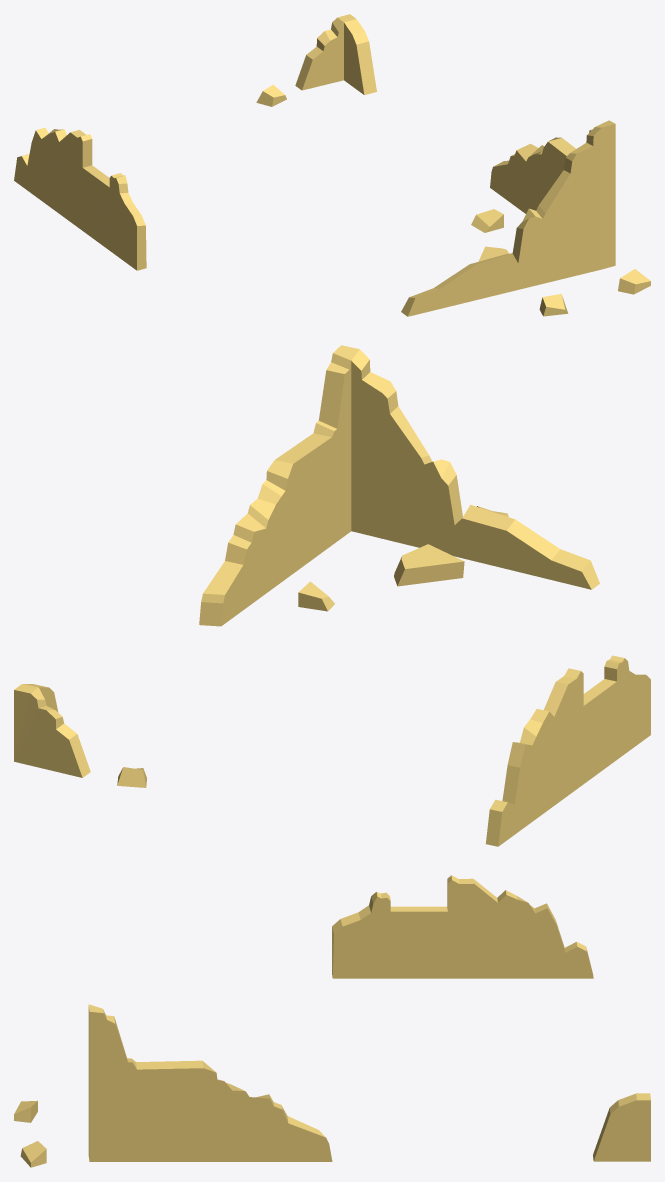
Rendered from Ruinas.obj.
3 views of the same model, one above another, from view 1: azimuth 30°, elevation 25°; view 2: azimuth 150°, elevation 25°; view 3: azimuth 270°, elevation 25° (orthographic). The views are drawn at different scales.
Visible parts, largest first — view 1: Ruins01_Mesh.005; view 2: Ruins01_Mesh.005; view 3: Ruins01_Mesh.005.
Boxes of the visible parts, x1,y1,x2,y2 form: Ruins01_Mesh.005: (14, 14, 650, 316); Ruins01_Mesh.005: (14, 345, 650, 846); Ruins01_Mesh.005: (14, 875, 650, 1167).
Size of the model in its own units: 4.39 by 1.62 by 6.14.
